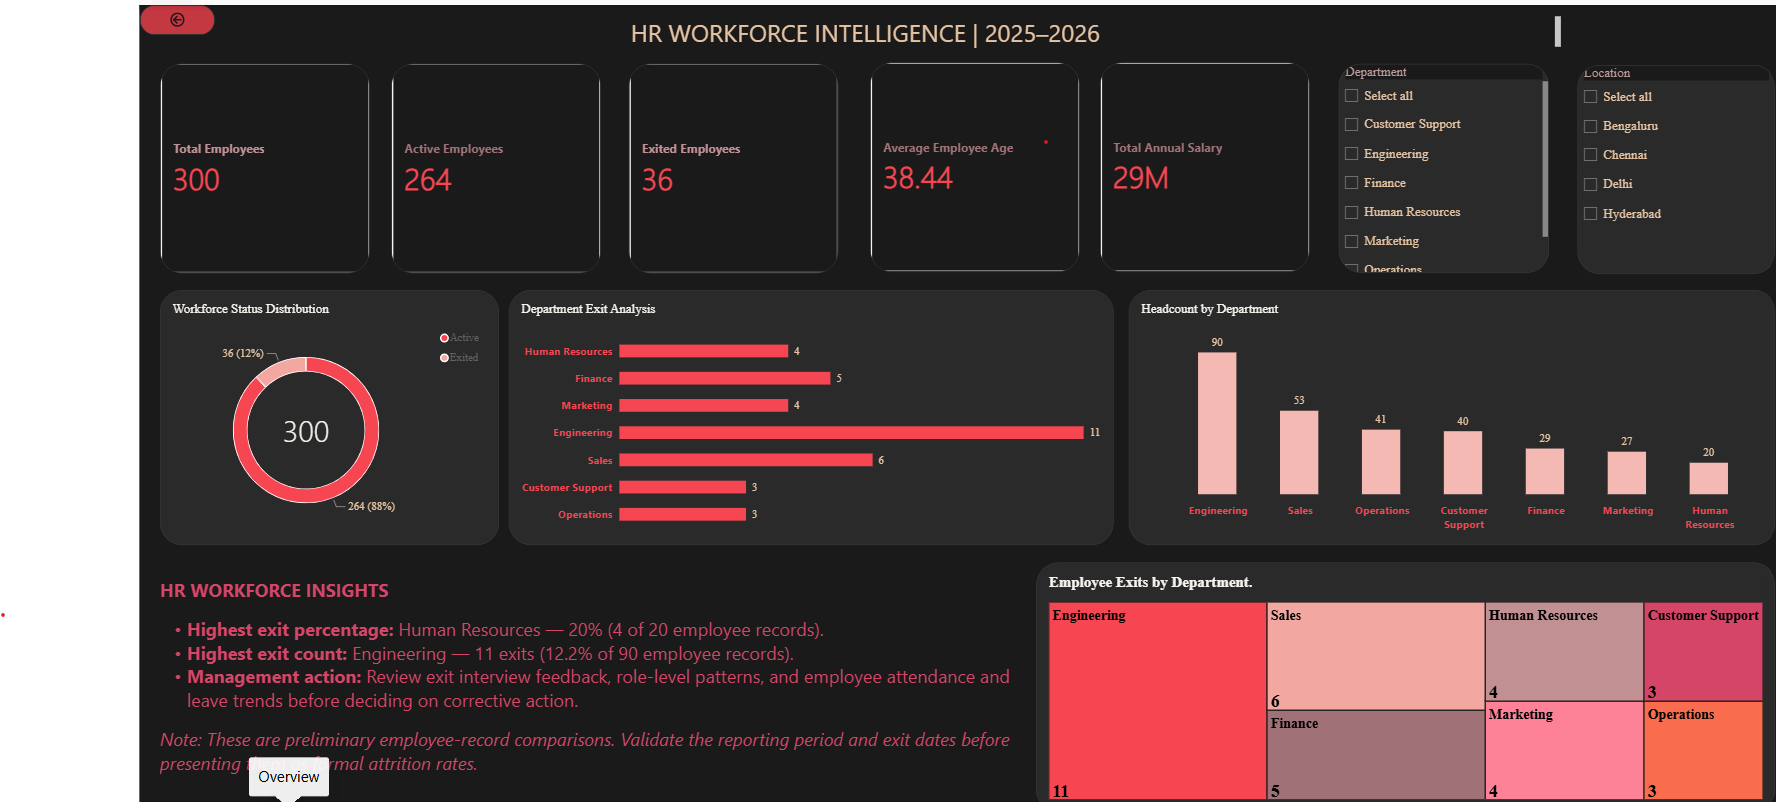

This screenshot's page, from the dashboard's own definition file:
{"tool":"powerbi","page":{"name":"Overview","canvas":[2200,1080],"ordinal":0},"visuals":[{"type":"cardVisual","fields":{"Data":["Count(Employees.Employee_ID)"]},"box":[26.8,78.2,280,280],"z":0},{"type":"cardVisual","fields":{"Data":["CountNonNull(Employees.Employee_ID)"]},"box":[652.5,78.2,280,280],"z":1000},{"type":"cardVisual","fields":{"Data":["CountNonNull(Employees.Employee_ID)"]},"box":[335.5,78.2,280,280],"z":2000},{"type":"columnChart","title":"Headcount by Department","fields":{"Category":["Employees.Department"],"Y":["CountNonNull(Employees.Employee_ID)"]},"box":[1320.8,380.7,864.9,340.6],"z":3000},{"type":"clusteredBarChart","title":"Department Exit Analysis","fields":{"Category":["Employees.Department"],"Y":["Attendance.Exited Employees"]},"box":[492.6,380.7,808.2,340.6],"z":4000},{"type":"slicer","fields":{"Values":["Employees.Department"]},"box":[1601.3,78.5,281.1,279.3],"z":5000},{"type":"donutChart","title":"Workforce Status Distribution","fields":{"Category":["Employees.Employment_Status"],"Y":["Count(Employees.Employee_ID)"]},"box":[26.7,380.7,452.5,340.6],"z":6000},{"type":"textbox","box":[27.5,744.5,1153.6,335.3],"z":7000},{"type":"textbox","box":[49,14.5,1849.6,50.8],"z":8000},{"type":"slicer","fields":{"Values":["Employees.Location"]},"box":[1920.2,80.1,264.8,279.3],"z":9000},{"type":"actionButton","box":[0,0,100,40],"z":10000},{"type":"treemap","title":"Employee Exits by Department.","fields":{"Group":["Employees.Department"],"Values":["CountNonNull(Employees.Employee_ID)"]},"box":[1196.6,744.5,988.1,334.8],"z":11000},{"type":"cardVisual","fields":{"Data":["Attendance.Average Employee Age"]},"box":[974.4,77.4,280,280],"z":12000},{"type":"cardVisual","fields":{"Data":["Attendance.Total Annual Salary"]},"box":[1282.6,77.4,280,280],"z":13000}]}

Visuals, with their boxes on the page's 2200x1080 design canvas (x1, y1, x2, y2). These are canvas units, not pixel positions in the 1776x802 screenshot, which may show the page scaled, cropped or inside an application window:
cardVisual - Count(Employees.Employee_ID): pyautogui.locateOnScreen(27, 78, 307, 358)
cardVisual - CountNonNull(Employees.Employee_ID): pyautogui.locateOnScreen(652, 78, 932, 358)
cardVisual - CountNonNull(Employees.Employee_ID): pyautogui.locateOnScreen(336, 78, 616, 358)
"Headcount by Department" columnChart: pyautogui.locateOnScreen(1321, 381, 2186, 721)
"Department Exit Analysis" clusteredBarChart: pyautogui.locateOnScreen(493, 381, 1301, 721)
slicer - Employees.Department: pyautogui.locateOnScreen(1601, 78, 1882, 358)
"Workforce Status Distribution" donutChart: pyautogui.locateOnScreen(27, 381, 479, 721)
textbox: pyautogui.locateOnScreen(28, 744, 1181, 1080)
textbox: pyautogui.locateOnScreen(49, 14, 1899, 65)
slicer - Employees.Location: pyautogui.locateOnScreen(1920, 80, 2185, 359)
actionButton: pyautogui.locateOnScreen(0, 0, 100, 40)
"Employee Exits by Department." treemap: pyautogui.locateOnScreen(1197, 744, 2185, 1079)
cardVisual - Attendance.Average Employee Age: pyautogui.locateOnScreen(974, 77, 1254, 357)
cardVisual - Attendance.Total Annual Salary: pyautogui.locateOnScreen(1283, 77, 1563, 357)
